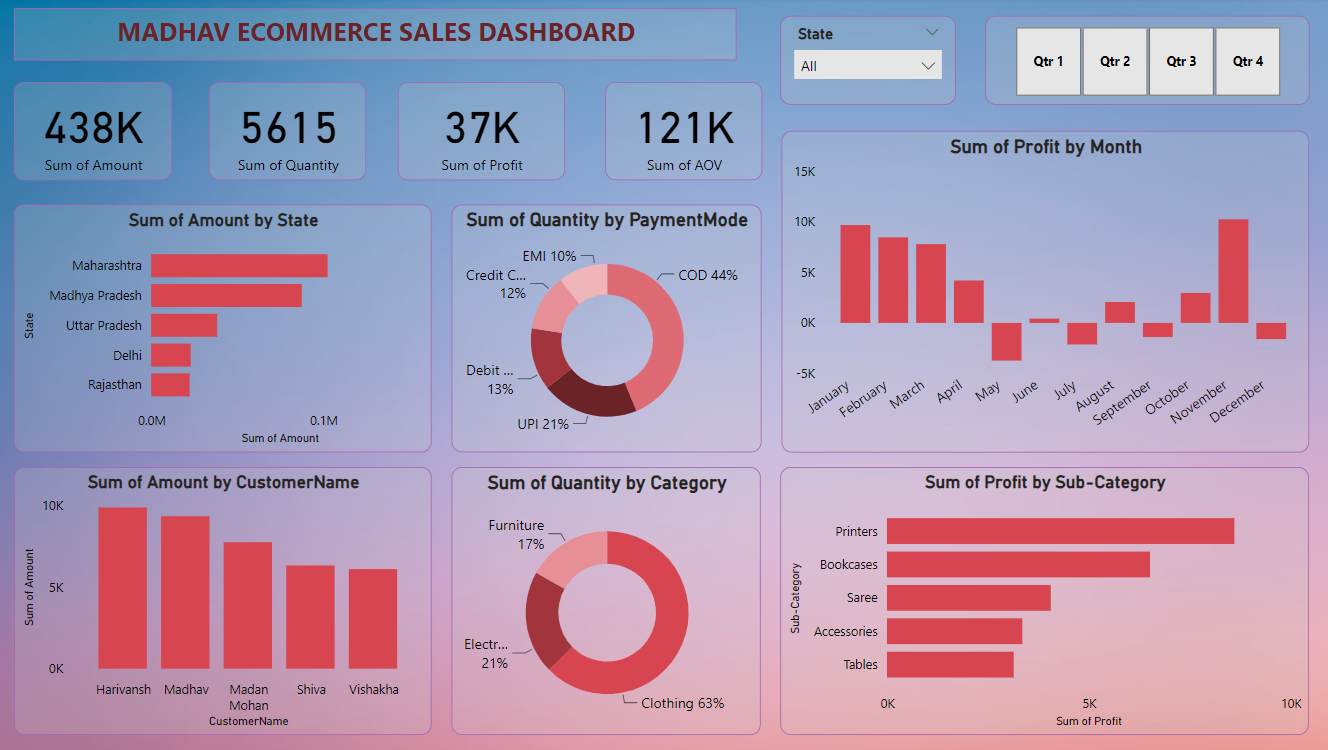

The page's visual inventory and layout, read from the dashboard file:
{"tool":"powerbi","page":{"name":"Page 1","canvas":[1280,720],"ordinal":0},"visuals":[{"type":"textbox","box":[28.8,11,688.3,49.4],"z":0},{"type":"columnChart","fields":{"Category":["Orders.Order Date.Variation.Date Hierarchy.Month"],"Y":["Sum(Details.Profit)"]},"box":[758.8,127.5,502.5,306.2],"z":1},{"type":"barChart","fields":{"Category":["Details.Sub-Category"],"Y":["Sum(Details.Profit)"]},"box":[758.2,447,503.2,255],"z":2},{"type":"donutChart","fields":{"Category":["Details.Category"],"Y":["Sum(Details.Quantity)"]},"box":[445.6,447,294.8,255],"z":3},{"type":"donutChart","fields":{"Y":["Sum(Details.Quantity)"],"Category":["Details.PaymentMode"]},"box":[445,197.5,295,236.2],"z":4},{"type":"card","fields":{"Values":["Sum(Details.Amount)"]},"box":[28.8,80.9,150,93.2],"z":5},{"type":"card","fields":{"Values":["Sum(Details.Quantity)"]},"box":[213.9,80.9,149.4,93.2],"z":6},{"type":"card","fields":{"Values":["Sum(Details.Profit)"]},"box":[393.5,80.9,159,93.2],"z":7},{"type":"card","fields":{"Values":["Sum(Details.AOV)"]},"box":[590.9,80.9,149.4,93.2],"z":8},{"type":"barChart","fields":{"Category":["Orders.State"],"Y":["Sum(Details.Amount)"]},"box":[28.8,197.4,397.6,235.8],"z":9},{"type":"columnChart","fields":{"Category":["Orders.CustomerName"],"Y":["Sum(Details.Amount)"]},"box":[28.8,447.5,397.5,255],"z":10},{"type":"slicer","fields":{"Values":["Orders.Order Date.Variation.Date Hierarchy.Quarter"]},"box":[952.9,17.8,308.5,85],"z":11},{"type":"slicer","fields":{"Values":["Orders.State"]},"box":[758.2,17.8,167.3,85],"z":12}]}

Visuals, with their boxes in screenshot pixels (x1, y1, x2, y2), scaled from the page's 1280x720 canvas onto the 1328x750 screenshot:
textbox: x1=30 y1=11 x2=744 y2=63
columnChart - Orders.Order Date.Variation.Date Hierarchy.Month x Sum(Details.Profit): x1=787 y1=133 x2=1309 y2=452
barChart - Details.Sub-Category x Sum(Details.Profit): x1=787 y1=466 x2=1309 y2=731
donutChart - Details.Category x Sum(Details.Quantity): x1=462 y1=466 x2=768 y2=731
donutChart - Sum(Details.Quantity) x Details.PaymentMode: x1=462 y1=206 x2=768 y2=452
card - Sum(Details.Amount): x1=30 y1=84 x2=186 y2=181
card - Sum(Details.Quantity): x1=222 y1=84 x2=377 y2=181
card - Sum(Details.Profit): x1=408 y1=84 x2=573 y2=181
card - Sum(Details.AOV): x1=613 y1=84 x2=768 y2=181
barChart - Orders.State x Sum(Details.Amount): x1=30 y1=206 x2=442 y2=451
columnChart - Orders.CustomerName x Sum(Details.Amount): x1=30 y1=466 x2=442 y2=732
slicer - Orders.Order Date.Variation.Date Hierarchy.Quarter: x1=989 y1=19 x2=1309 y2=107
slicer - Orders.State: x1=787 y1=19 x2=960 y2=107
